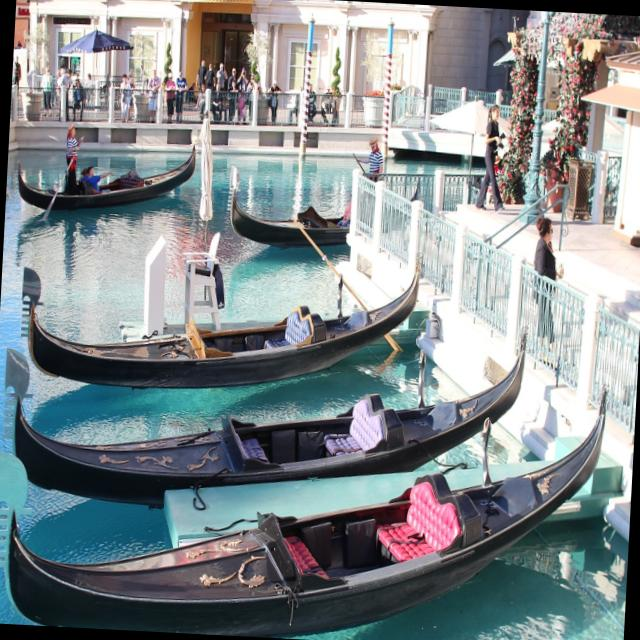boat: (0, 379, 618, 640), (0, 308, 540, 523), (12, 226, 454, 408), (9, 131, 202, 227), (226, 168, 360, 256)
